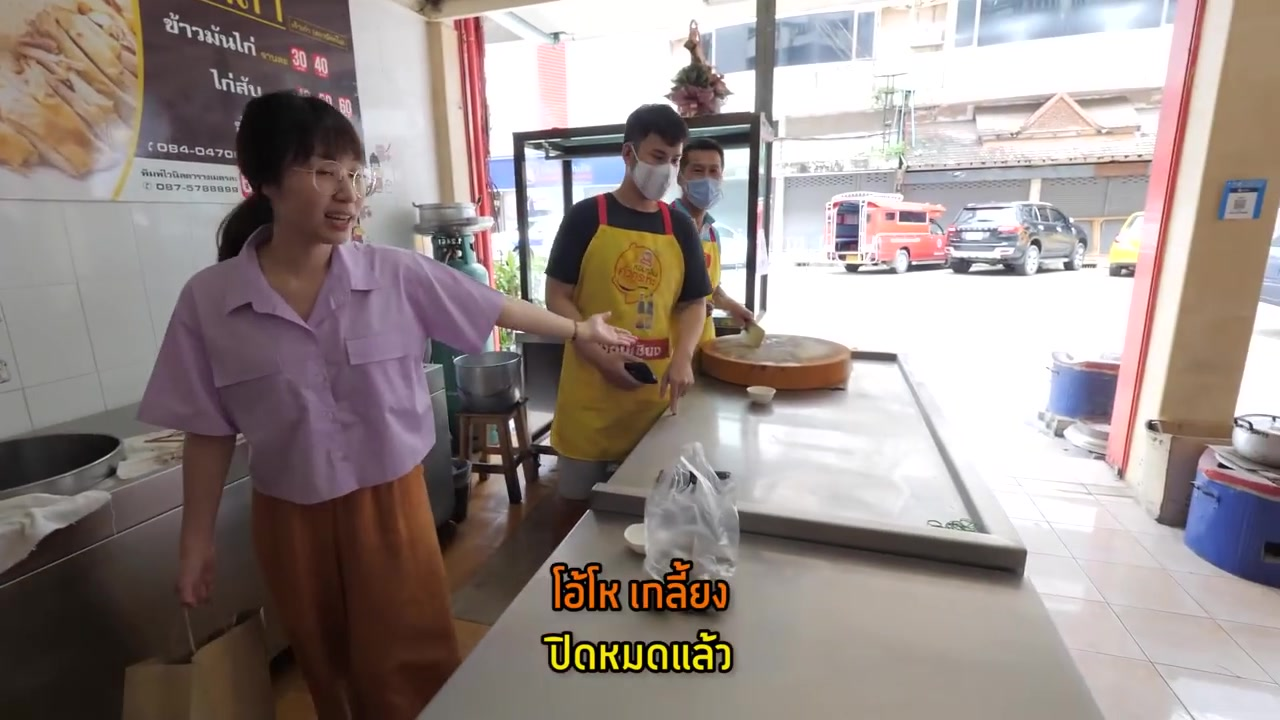text-label: (547, 557, 737, 613), (537, 625, 736, 677)
